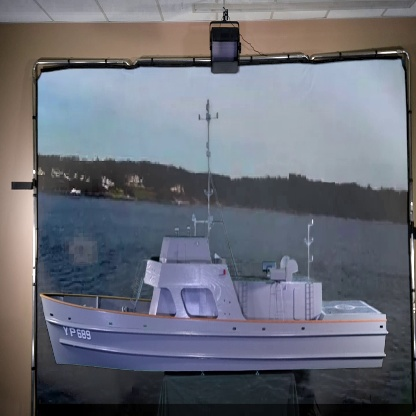YP689: (39, 80, 389, 377)
